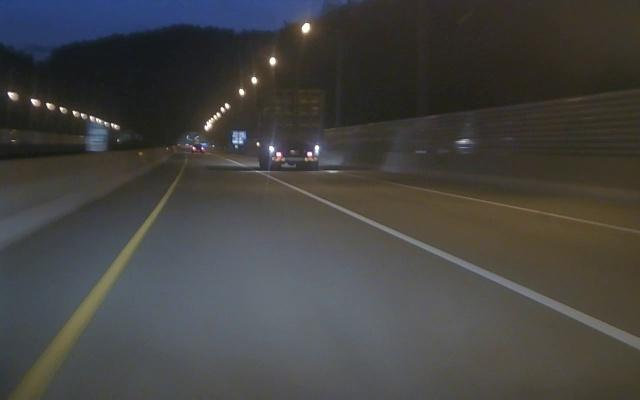lane: (273, 177, 639, 350), (6, 186, 170, 399), (389, 182, 640, 235)
